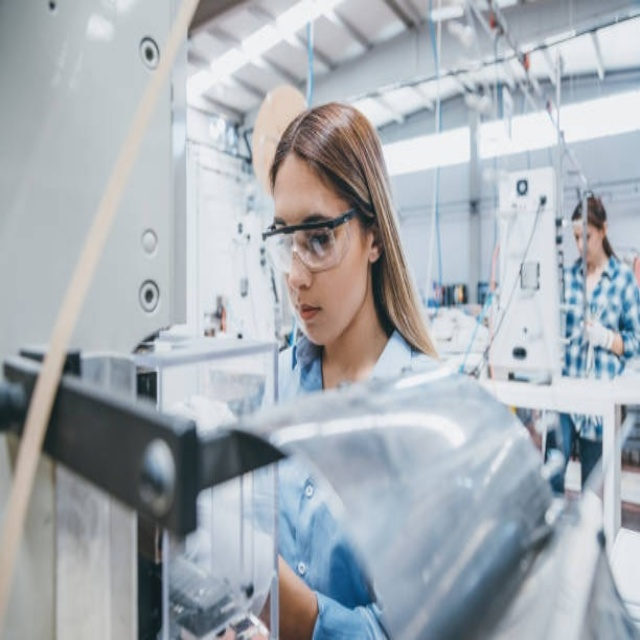Gafas: (260, 207, 368, 281)
Guantes: (585, 318, 616, 352)
Sin_mascara: (288, 289, 341, 345)
